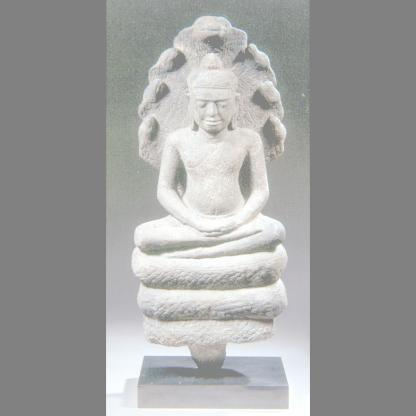buddha-sitting: (132, 16, 290, 343)
